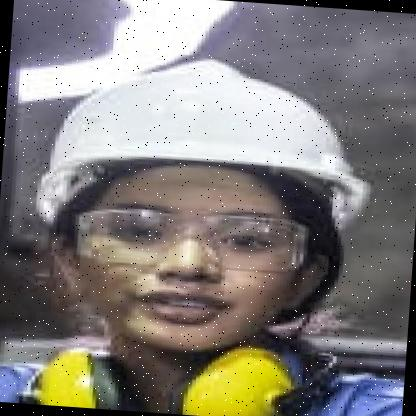capacete: (34, 48, 383, 214)
oculos: (57, 194, 320, 282)
